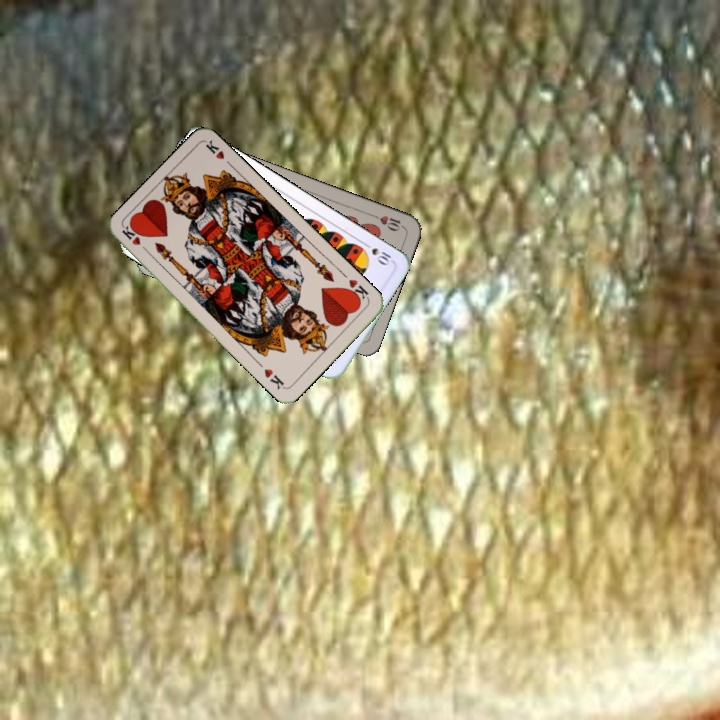H10: (368, 210, 407, 234)
HK: (118, 222, 152, 257), (342, 275, 372, 305)
S10: (359, 238, 395, 269)
